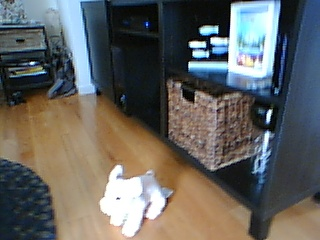piggy: (97, 163, 167, 238)
